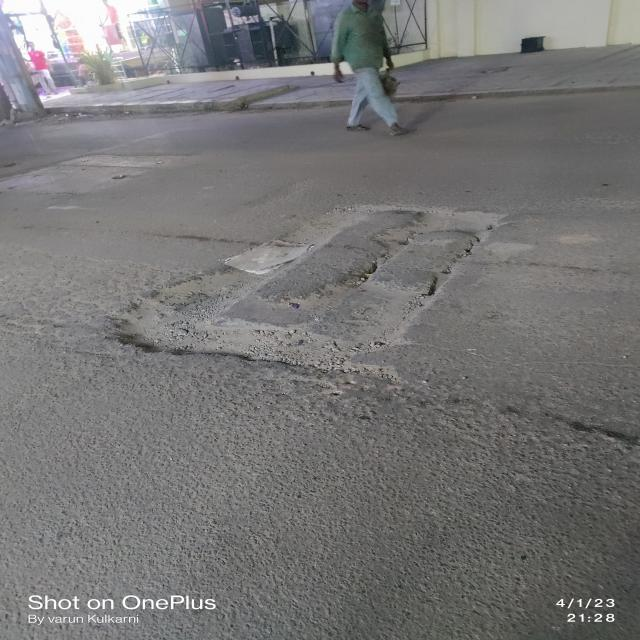manhole: (107, 196, 542, 392)
